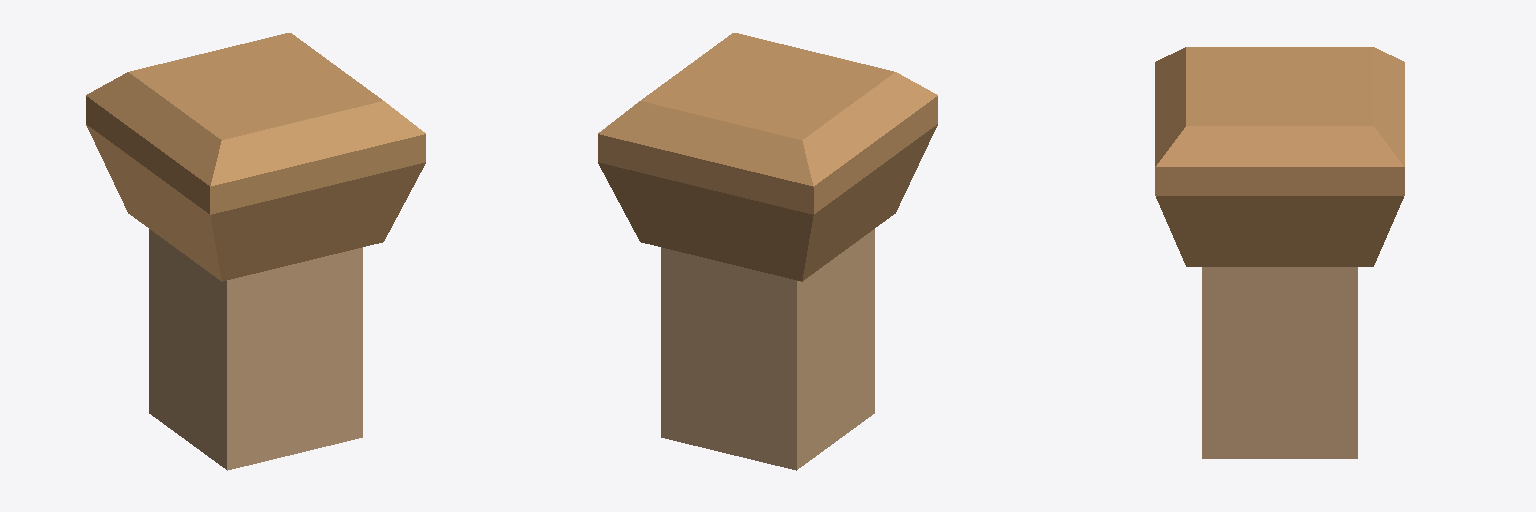
Rendered from Stairs_Newel_Top.obj.
3 views of the same model, side by side, from view 1: azimuth 30°, elevation 25°; view 2: azimuth 150°, elevation 25°; view 3: azimuth 270°, elevation 25° (orthographic).
Parts seen in each view (by area): view 1: object2, object1; view 2: object2, object1; view 3: object2, object1.
Boxes of the visible parts, x1,y1,x2,y2 form: object2: [86, 33, 425, 281]; object1: [149, 229, 362, 470]; object2: [598, 33, 937, 281]; object1: [661, 229, 874, 470]; object2: [1155, 47, 1404, 266]; object1: [1202, 267, 1357, 458].
Size of the model in its own units: 0.4 by 0.6 by 0.4.